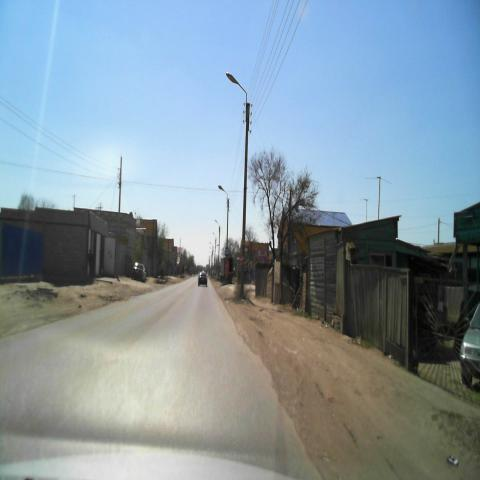5_16: (224, 247, 228, 257)
